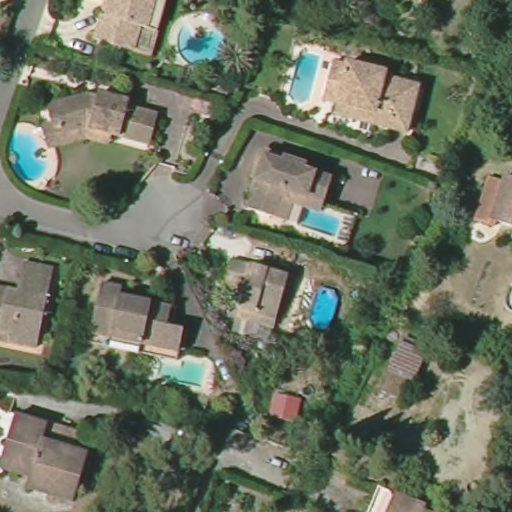pool: (170, 19, 237, 68), (7, 123, 55, 189), (148, 347, 216, 392), (286, 44, 322, 111), (307, 286, 341, 334), (296, 207, 345, 239)
